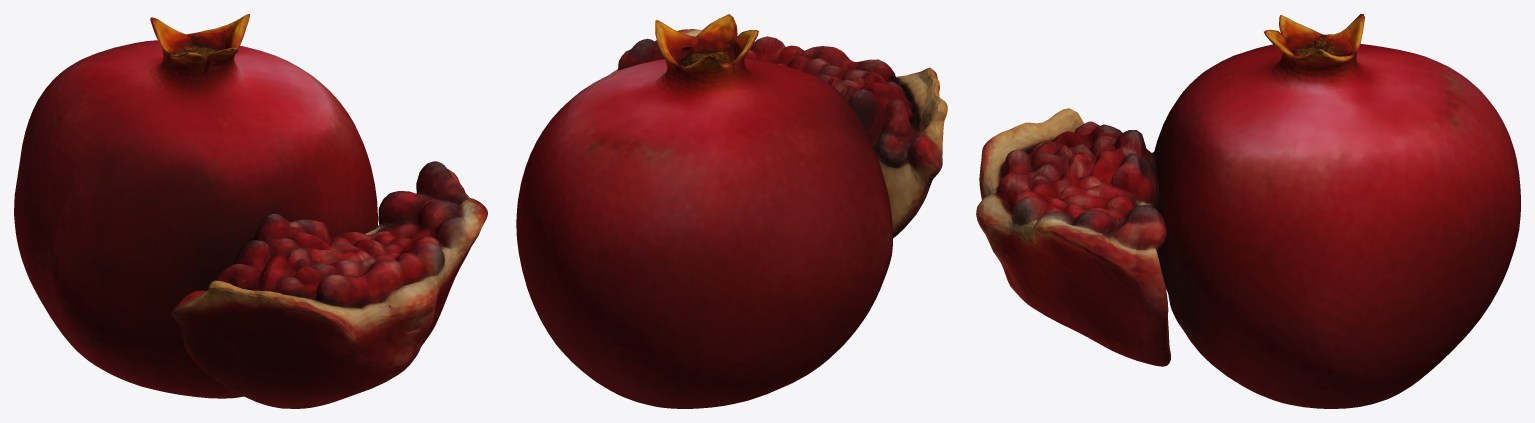
Rendered from pomegranate.glb.
3 views of the same model, side by side, from view 1: azimuth 30°, elevation 25°; view 2: azimuth 150°, elevation 25°; view 3: azimuth 270°, elevation 25° (orthographic).
Visible parts, largest first — view 1: world; view 2: world; view 3: world.
Part boxes in pixels (box(x1,y1,x2,y2)): world: box(14, 14, 487, 408); world: box(516, 14, 947, 408); world: box(976, 14, 1520, 408).
Bounding box in the file's own units: 0.7471 × 0.7317 × 0.9987.
Materials: 1 (1 with a texture image).
